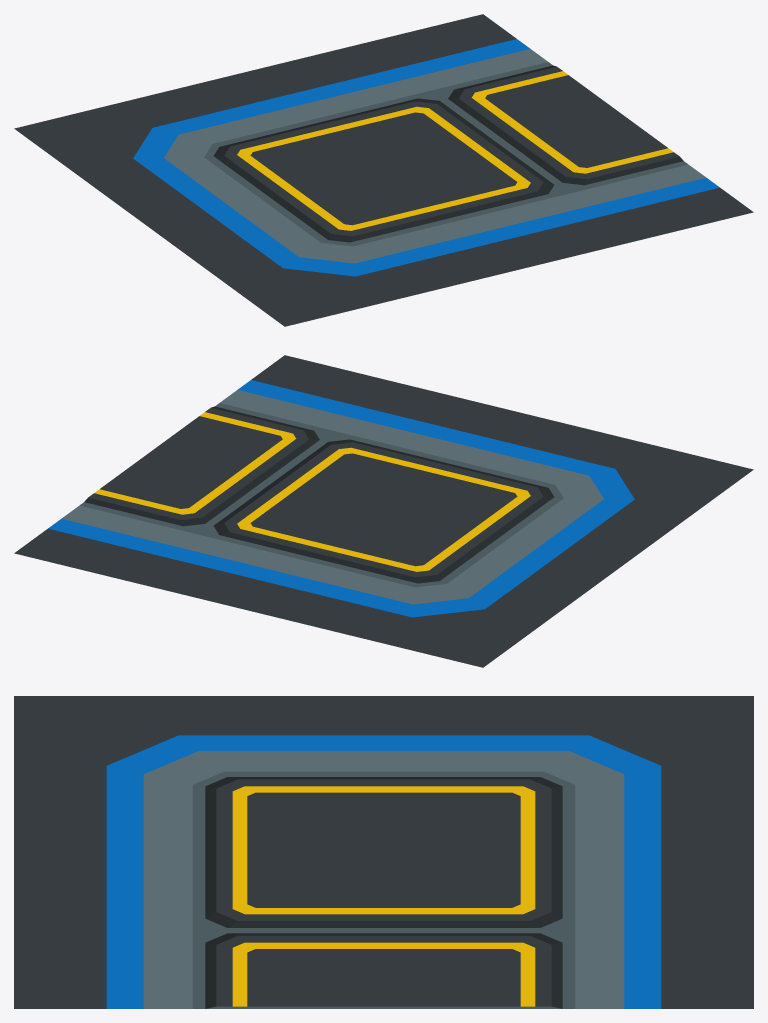
The model's file is Floor_type_C_027.glb.
3 views of the same model, one above another, from view 1: azimuth 30°, elevation 25°; view 2: azimuth 150°, elevation 25°; view 3: azimuth 270°, elevation 25° (orthographic). The views are drawn at different scales.
Parts seen in each view (by area): view 1: Floor_type_C_027; view 2: Floor_type_C_027; view 3: Floor_type_C_027.
Part boxes in pixels (x1,y1,x2,y2): Floor_type_C_027: (14, 14, 753, 326); Floor_type_C_027: (14, 355, 753, 667); Floor_type_C_027: (14, 696, 753, 1008).
Size of the model in its own units: 4 by 0.0134 by 4.
Materials: 2 (2 with a texture image).
